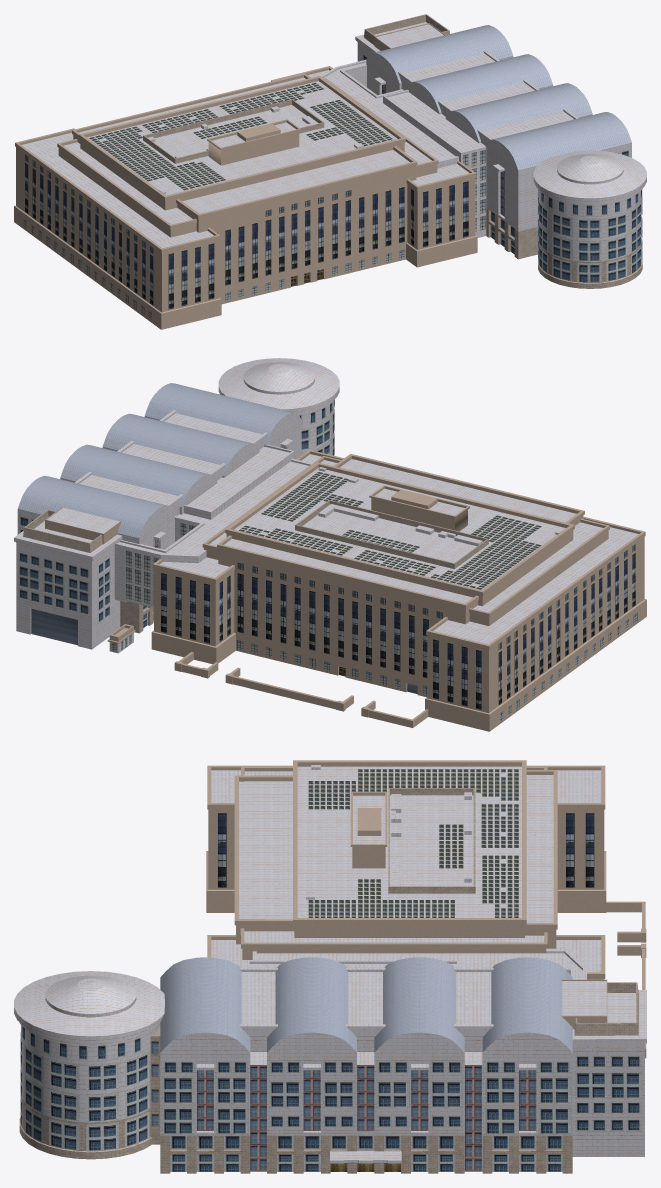
The model's file is court.glb.
3 renders of one model, top to bottom at view 1: azimuth 30°, elevation 25°; view 2: azimuth 150°, elevation 25°; view 3: azimuth 270°, elevation 25°, orthographic. The views are drawn at different scales.
Parts seen in each view (by area): view 1: Box004; view 2: Box004; view 3: Box004.
Boxes of the visible parts, x1=… form: Box004: x1=14, y1=14, x2=646, y2=329; Box004: x1=14, y1=358, x2=646, y2=731; Box004: x1=14, y1=760, x2=646, y2=1173.
Bounding box in the file's own units: 798 × 190 × 689.
Materials: 5 (5 with a texture image).
